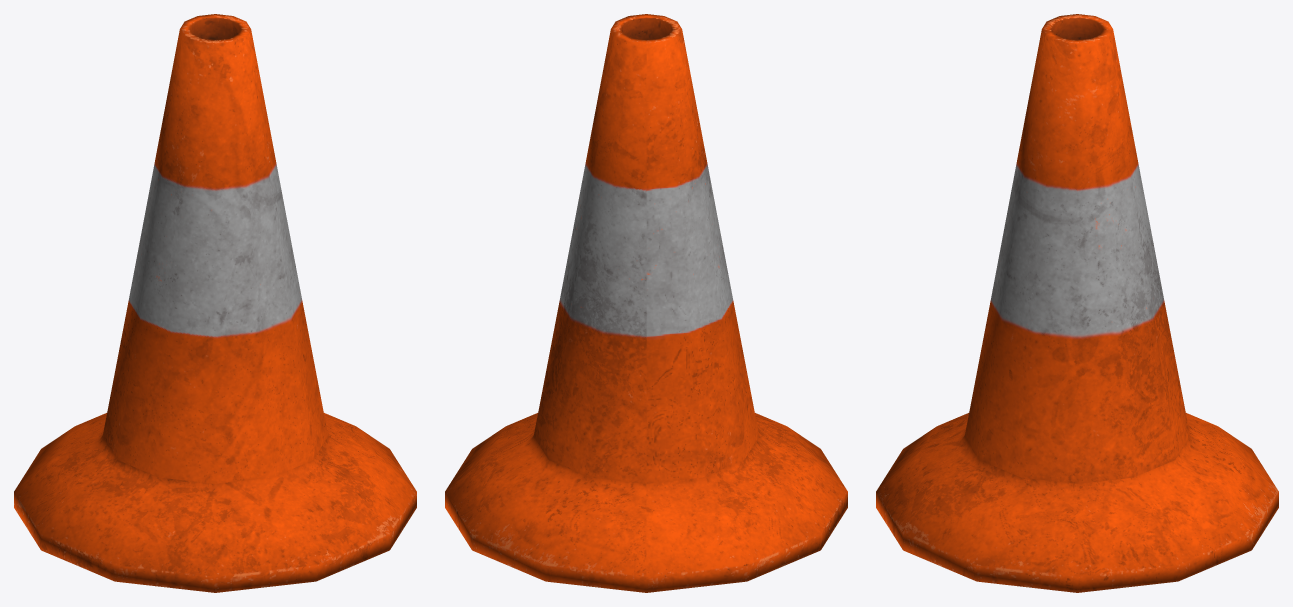
The model's file is RAMBU JALAN.glb.
3 renders of one model, left to right at view 1: azimuth 30°, elevation 25°; view 2: azimuth 150°, elevation 25°; view 3: azimuth 270°, elevation 25°, orthographic.
Visible parts, largest first — view 1: Cylinder; view 2: Cylinder; view 3: Cylinder.
Part boxes in pixels (bbox=[...]): Cylinder: bbox=[14, 14, 416, 592]; Cylinder: bbox=[445, 14, 847, 592]; Cylinder: bbox=[876, 14, 1278, 592].
Bounding box in the file's own units: 2.23 × 2.92 × 2.23.
1 material, 1 textured.
